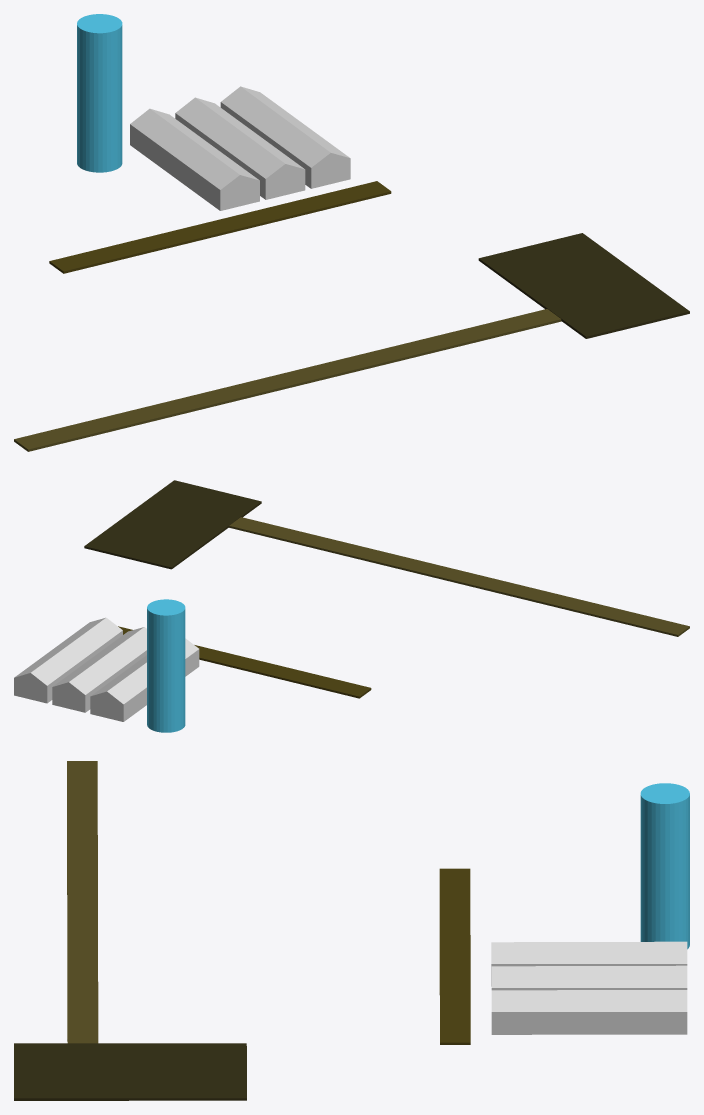
The model's file is buildings.glb.
The picture shows the model from 3 angles, top to bottom: view 1: azimuth 30°, elevation 25°; view 2: azimuth 150°, elevation 25°; view 3: azimuth 270°, elevation 25°; orthographic projection. The views are drawn at different scales.
Visible parts, largest first — view 1: Cube.003, Cube.004, Cylinder, Cube, Cube.005, Cube.002, Cube.001; view 2: Cube.003, Cube.004, Cylinder, Cube.002, Cube.001, Cube, Cube.005; view 3: Cube.003, Cube.002, Cube.004, Cylinder, Cube.005, Cube, Cube.001.
Part boxes in pixels (bbox=[...]): Cube.003: bbox=[478, 233, 689, 338]; Cube.004: bbox=[14, 309, 561, 451]; Cylinder: bbox=[77, 14, 122, 172]; Cube: bbox=[130, 108, 259, 210]; Cube.005: bbox=[49, 181, 391, 273]; Cube.002: bbox=[220, 86, 350, 188]; Cube.001: bbox=[175, 97, 305, 199]; Cube.003: bbox=[84, 480, 261, 569]; Cube.004: bbox=[229, 517, 689, 636]; Cylinder: bbox=[147, 599, 185, 732]; Cube.002: bbox=[14, 617, 122, 703]; Cube.001: bbox=[52, 627, 146, 712]; Cube: bbox=[90, 638, 199, 721]; Cube.005: bbox=[118, 626, 371, 698]; Cube.003: bbox=[14, 1043, 246, 1100]; Cube.002: bbox=[491, 990, 687, 1034]; Cube.004: bbox=[67, 761, 98, 1043]; Cylinder: bbox=[640, 783, 689, 949]; Cube.005: bbox=[439, 868, 470, 1044]; Cube: bbox=[491, 941, 687, 986]; Cube.001: bbox=[491, 965, 687, 990].
Size of the model in its own units: 32.29 by 6.87 by 27.32.
